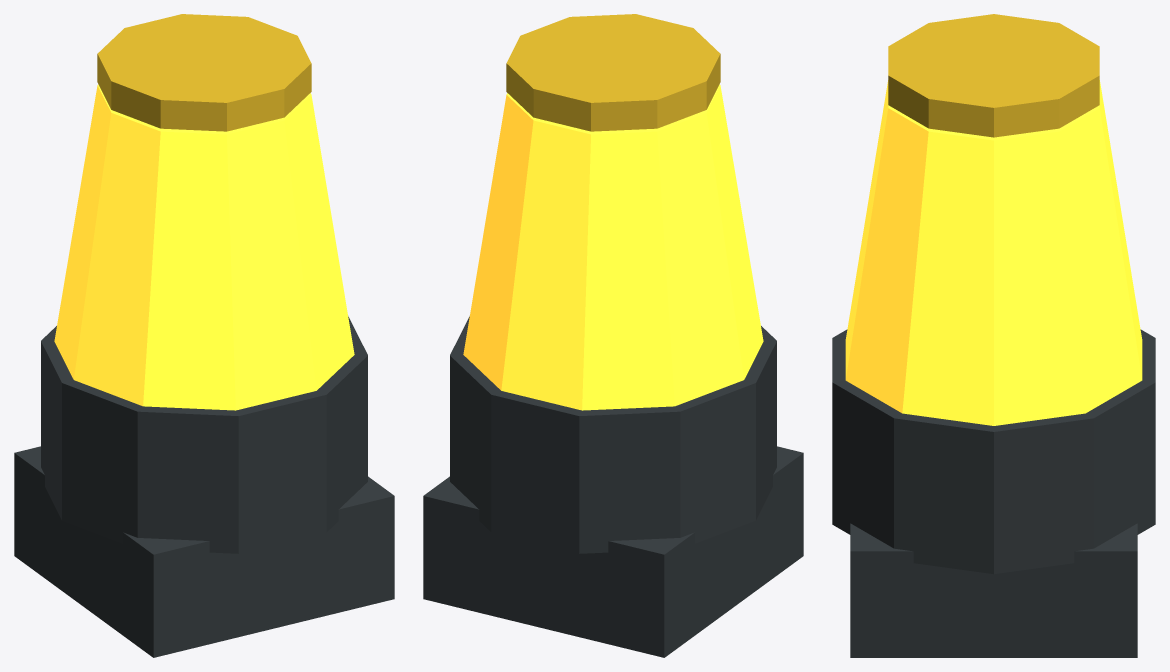
File: TR3_WarningLight_Portable.glb
3 views of the same model, side by side, from view 1: azimuth 30°, elevation 25°; view 2: azimuth 150°, elevation 25°; view 3: azimuth 270°, elevation 25° (orthographic). The views are drawn at different scales.
Parts seen in each view (by area): view 1: TR3_WarningLight_Portable; view 2: TR3_WarningLight_Portable; view 3: TR3_WarningLight_Portable.
Boxes of the visible parts, bbox=[...] form: TR3_WarningLight_Portable: bbox=[14, 14, 394, 657]; TR3_WarningLight_Portable: bbox=[423, 14, 803, 657]; TR3_WarningLight_Portable: bbox=[832, 14, 1155, 657].
Size of the model in its own units: 0.26 by 0.4525 by 0.2473.
